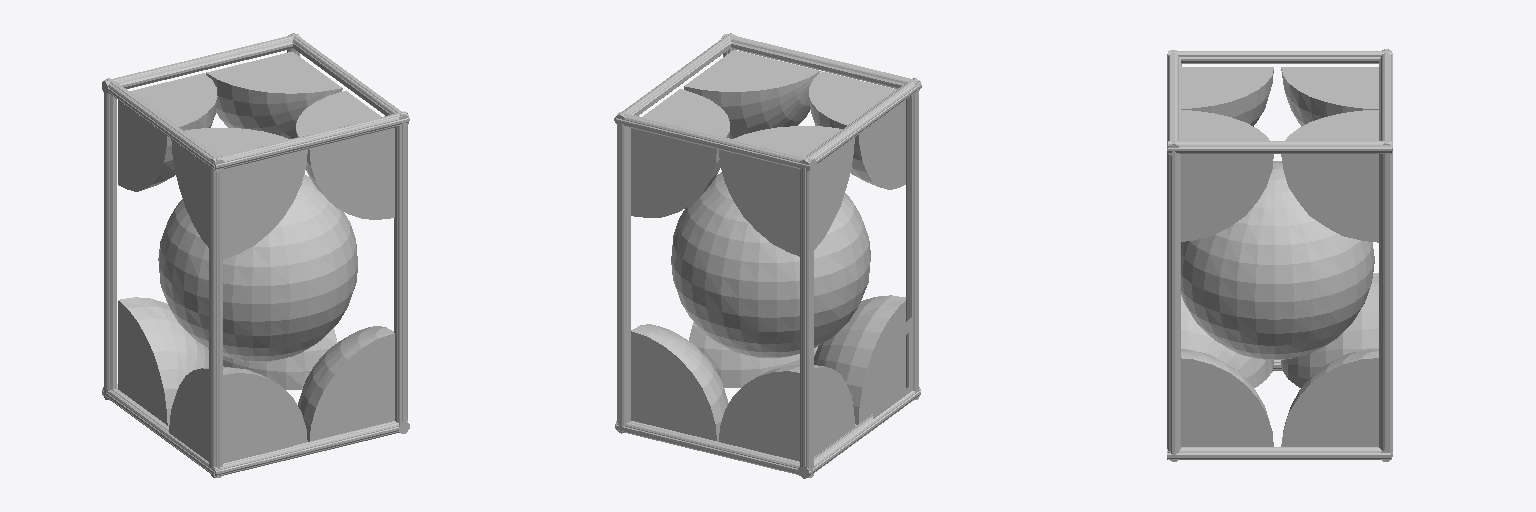
Rendered from tetragonal centrada en el cuerpo.obj.
3 views of the same model, side by side, from view 1: azimuth 30°, elevation 25°; view 2: azimuth 150°, elevation 25°; view 3: azimuth 270°, elevation 25° (orthographic).
Parts seen in each view (by area): view 1: Sphere.096_Sphere.337, Sphere.074_Sphere.327, Sphere.076_Sphere.329, Sphere.075_Sphere.328, Sphere.077_Sphere.330, Sphere.080_Sphere.333, Sphere.078_Sphere.331, Sphere.073_Sphere.326, Cylinder.137_Cylinder.298, Cylinder.129_Cylinder.289, Cylinder.135_Cylinder.296, Cylinder.128_Cylinder.288 (+8 smaller); view 2: Sphere.096_Sphere.337, Sphere.078_Sphere.331, Sphere.079_Sphere.332, Sphere.077_Sphere.330, Sphere.080_Sphere.333, Sphere.076_Sphere.329, Sphere.073_Sphere.326, Sphere.074_Sphere.327, Cylinder.132_Cylinder.292, Cylinder.135_Cylinder.296, Cylinder.137_Cylinder.298, Cylinder.134_Cylinder.294 (+7 smaller); view 3: Sphere.096_Sphere.337, Sphere.080_Sphere.333, Sphere.076_Sphere.329, Sphere.079_Sphere.332, Sphere.075_Sphere.328, Sphere.078_Sphere.331, Sphere.074_Sphere.327, Cylinder.129_Cylinder.289, Cylinder.132_Cylinder.292, Sphere.077_Sphere.330, Cylinder.131_Cylinder.291, Cylinder.130_Cylinder.290 (+4 smaller).
Part boxes in pixels (left/top/right/bottom): Sphere.096_Sphere.337: left=158, top=174, right=357, bottom=361; Sphere.074_Sphere.327: left=171, top=128, right=307, bottom=259; Sphere.076_Sphere.329: left=296, top=91, right=394, bottom=219; Sphere.075_Sphere.328: left=298, top=326, right=394, bottom=441; Sphere.077_Sphere.330: left=118, top=297, right=208, bottom=425; Sphere.080_Sphere.333: left=206, top=51, right=342, bottom=138; Sphere.078_Sphere.331: left=118, top=73, right=217, bottom=191; Sphere.073_Sphere.326: left=175, top=366, right=307, bottom=454; Cylinder.137_Cylinder.298: left=209, top=164, right=222, bottom=468; Cylinder.129_Cylinder.289: left=394, top=122, right=407, bottom=423; Cylinder.135_Cylinder.296: left=104, top=93, right=116, bottom=392; Cylinder.128_Cylinder.288: left=211, top=111, right=409, bottom=170; Sphere.096_Sphere.337: left=671, top=172, right=870, bottom=357; Sphere.078_Sphere.331: left=719, top=126, right=854, bottom=256; Sphere.079_Sphere.332: left=631, top=324, right=728, bottom=441; Sphere.077_Sphere.330: left=719, top=365, right=854, bottom=461; Sphere.080_Sphere.333: left=631, top=89, right=729, bottom=217; Sphere.076_Sphere.329: left=684, top=50, right=820, bottom=138; Sphere.073_Sphere.326: left=814, top=295, right=905, bottom=424; Sphere.074_Sphere.327: left=809, top=71, right=905, bottom=189; Cylinder.132_Cylinder.292: left=617, top=123, right=630, bottom=426; Cylinder.135_Cylinder.296: left=800, top=167, right=813, bottom=470; Cylinder.137_Cylinder.298: left=906, top=89, right=918, bottom=392; Cylinder.134_Cylinder.294: left=616, top=112, right=815, bottom=171; Sphere.096_Sphere.337: left=1181, top=161, right=1374, bottom=359; Sphere.080_Sphere.333: left=1281, top=110, right=1378, bottom=242; Sphere.076_Sphere.329: left=1181, top=110, right=1273, bottom=241; Sphere.079_Sphere.332: left=1281, top=349, right=1378, bottom=446; Sphere.075_Sphere.328: left=1181, top=349, right=1273, bottom=446; Sphere.078_Sphere.331: left=1281, top=67, right=1378, bottom=126; Sphere.074_Sphere.327: left=1181, top=67, right=1273, bottom=126; Cylinder.129_Cylinder.289: left=1167, top=151, right=1180, bottom=454; Cylinder.132_Cylinder.292: left=1379, top=151, right=1392, bottom=452; Sphere.077_Sphere.330: left=1281, top=273, right=1378, bottom=387; Cylinder.131_Cylinder.291: left=1168, top=141, right=1391, bottom=153; Cylinder.130_Cylinder.290: left=1167, top=447, right=1390, bottom=459.
Bounding box in the file's own units: 0.0003 × 0.0004 × 0.0003.